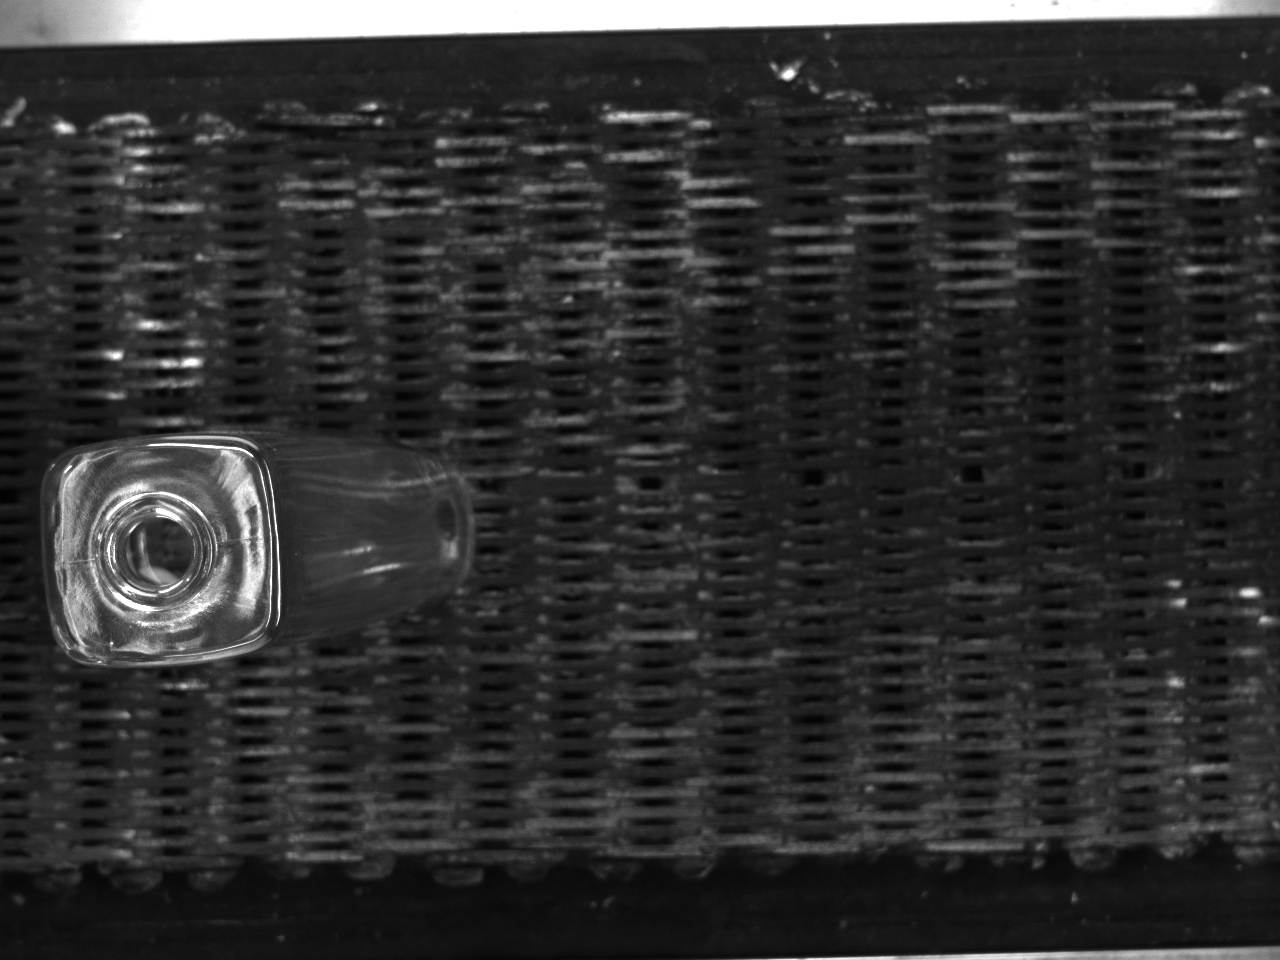bottleneck: (94, 492, 216, 607)
